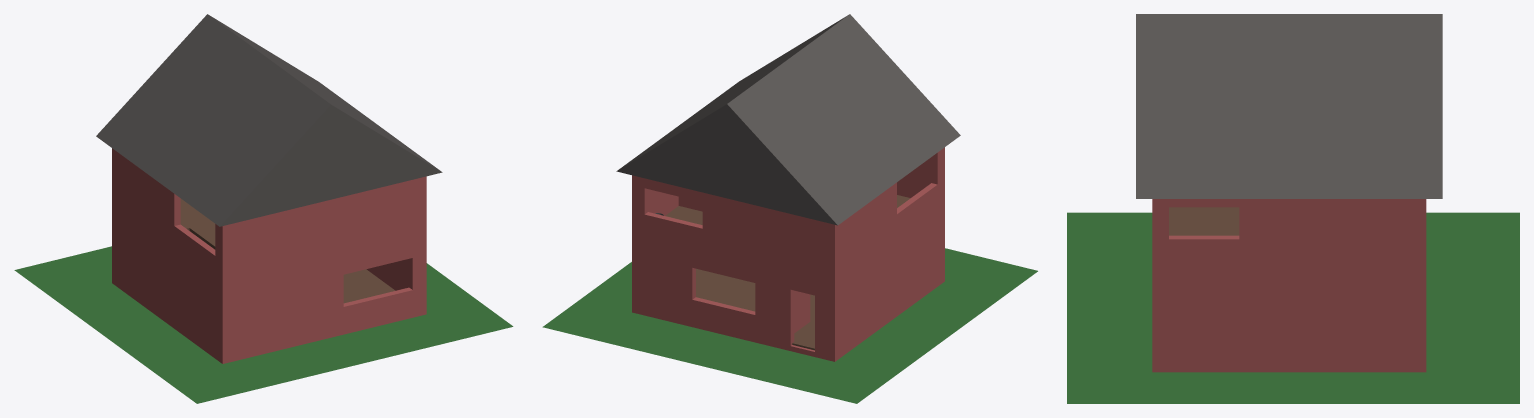
The model's file is House Stucture.fbx.
The picture shows the model from 3 angles, left to right: view 1: azimuth 30°, elevation 25°; view 2: azimuth 150°, elevation 25°; view 3: azimuth 270°, elevation 25°; orthographic projection. The views are drawn at different scales.
Visible parts, largest first — view 1: Walls, Roof, Outside, Ground_Floor, First_Floor; view 2: Walls, Roof, Outside, Ground_Floor, First_Floor; view 3: Roof, Walls, Outside, First_Floor.
Boxes of the visible parts, x1=… form: Walls: x1=112, y1=148, x2=426, y2=363; Roof: x1=96, y1=14, x2=442, y2=226; Outside: x1=14, y1=246, x2=513, y2=403; Ground_Floor: x1=343, y1=269, x2=395, y2=303; First_Floor: x1=180, y1=198, x2=215, y2=249; Walls: x1=632, y1=147, x2=944, y2=361; Roof: x1=616, y1=14, x2=960, y2=225; Outside: x1=542, y1=248, x2=1037, y2=403; Ground_Floor: x1=696, y1=268, x2=814, y2=350; First_Floor: x1=665, y1=195, x2=910, y2=224; Roof: x1=1136, y1=14, x2=1442, y2=198; Walls: x1=1152, y1=199, x2=1426, y2=372; Outside: x1=1067, y1=212, x2=1519, y2=403; First_Floor: x1=1169, y1=207, x2=1239, y2=235.
Size of the model in its own units: 376 by 274 by 376.
